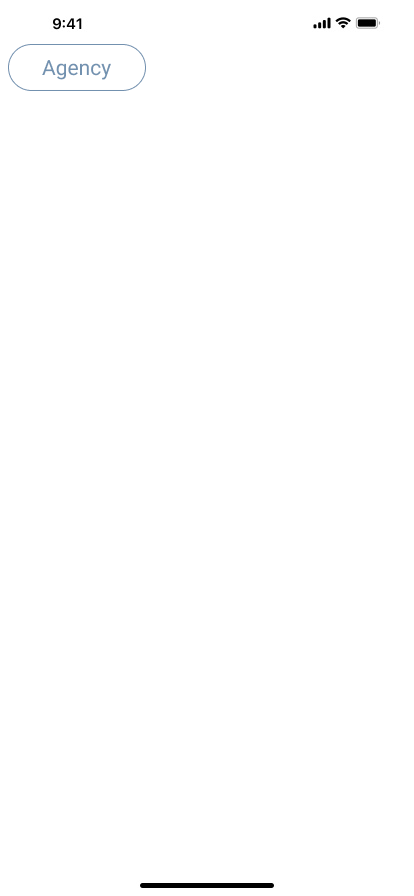Buttons: (8, 44, 154, 91)
Home Indicator: (0, 862, 414, 896)
Status Bar: (0, 0, 414, 44)
